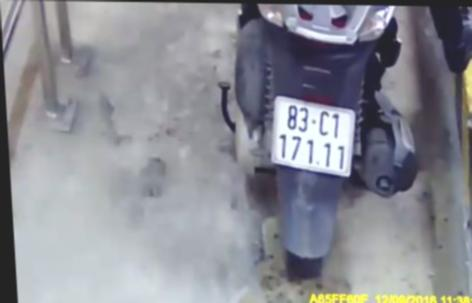License_Plate: (262, 91, 362, 181)
